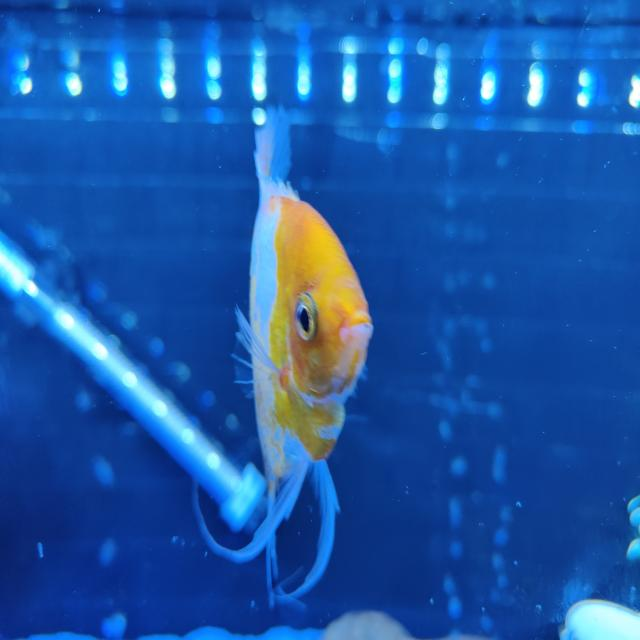Fish: (193, 108, 372, 606)
